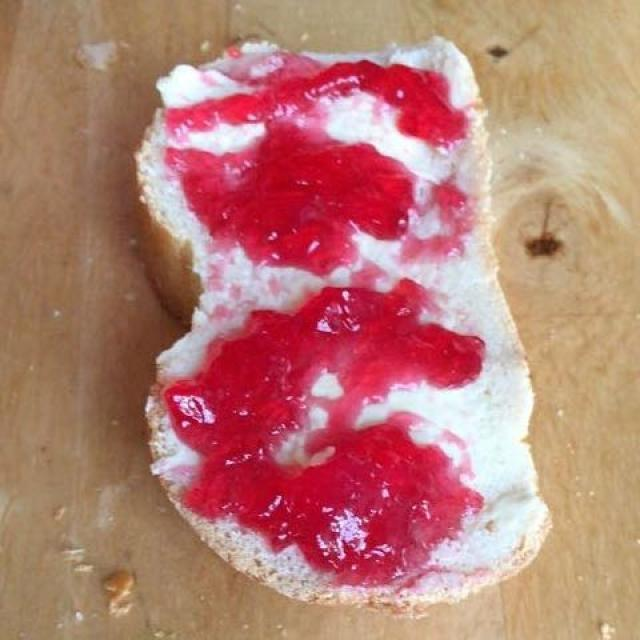bread: (146, 55, 537, 598)
jam: (186, 62, 508, 579)
